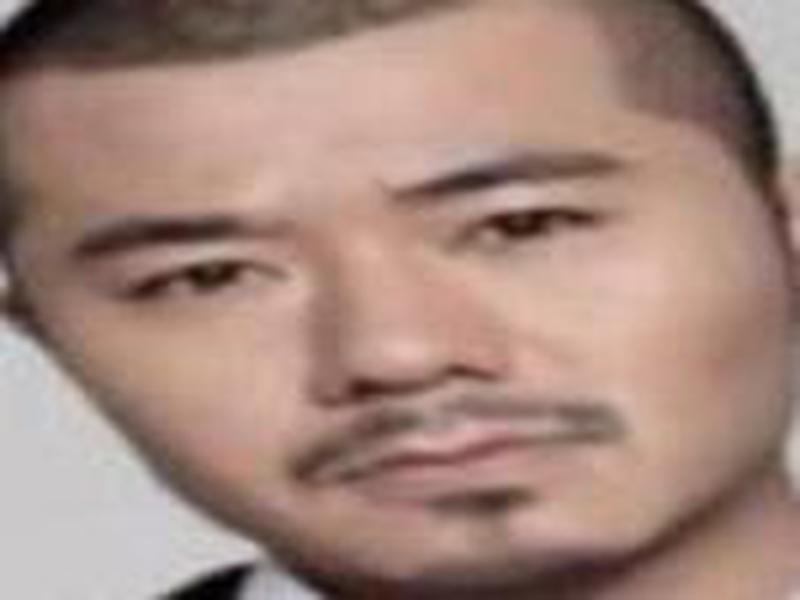without_mask: (21, 87, 800, 587)
